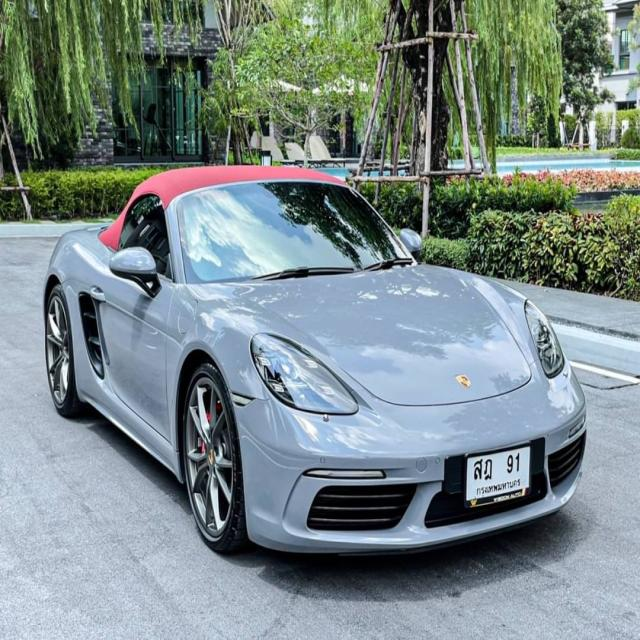license_plate: (462, 438, 540, 513)
